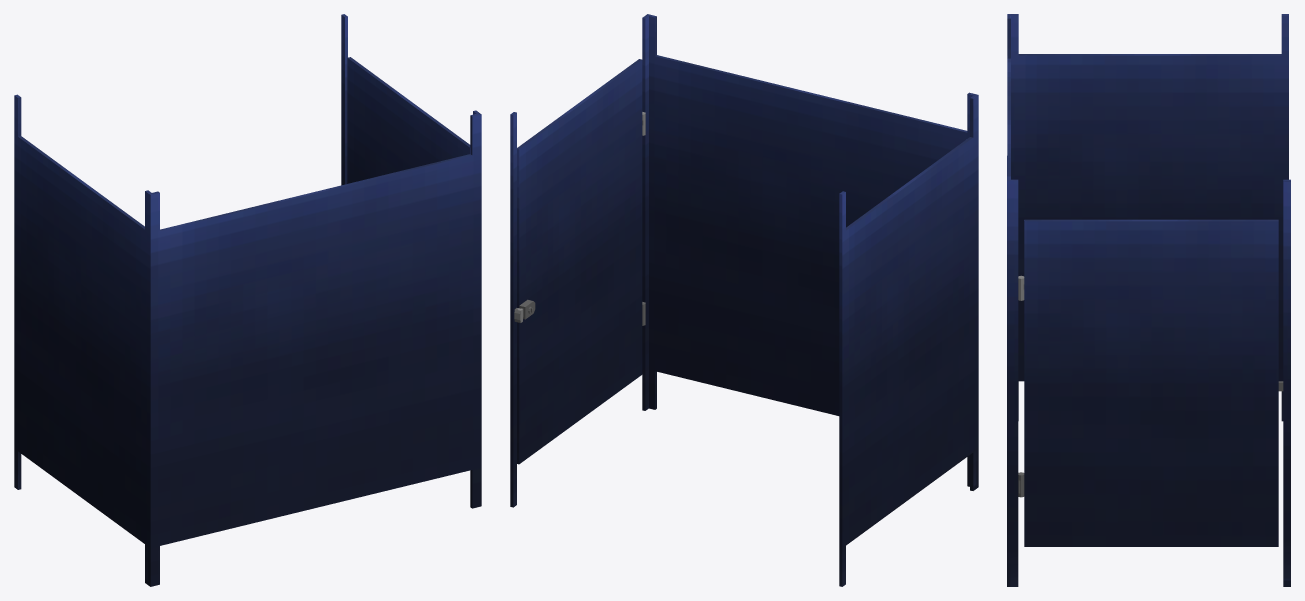
File: stall_closed_L.fbx
The picture shows the model from 3 angles, left to right: view 1: azimuth 30°, elevation 25°; view 2: azimuth 150°, elevation 25°; view 3: azimuth 270°, elevation 25°; orthographic projection. The views are drawn at different scales.
Visible parts, largest first — view 1: stall_closed_L; view 2: stall_closed_L; view 3: stall_closed_L.
Part boxes in pixels (x1=…): stall_closed_L: x1=14, y1=14, x2=481, y2=586; stall_closed_L: x1=510, y1=14, x2=978, y2=586; stall_closed_L: x1=1007, y1=14, x2=1290, y2=586.
Size of the model in its own units: 2.13 by 2.4 by 1.52.
1 material, 1 textured.
